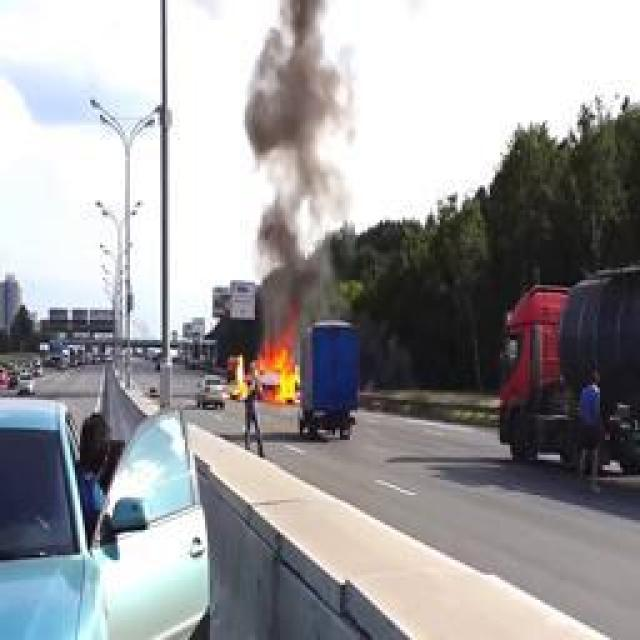Fire: (234, 307, 302, 405)
